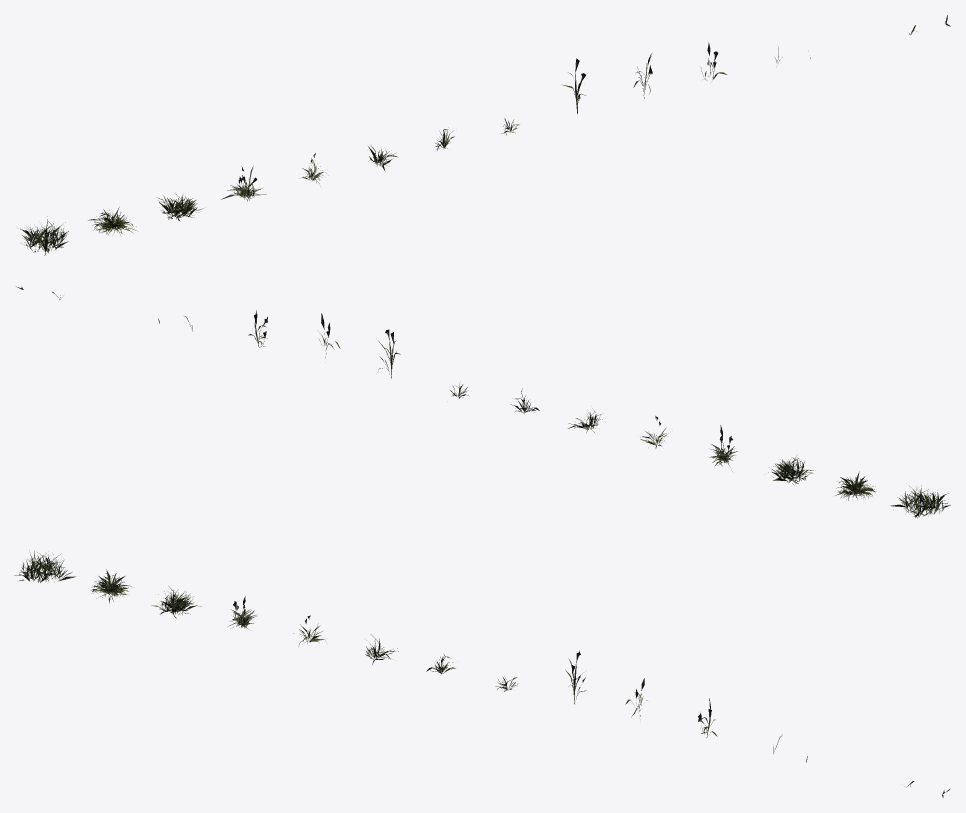
The model's file is grass_medium_01.glb.
The picture shows the model from 3 angles, top to bottom: view 1: azimuth 30°, elevation 25°; view 2: azimuth 150°, elevation 25°; view 3: azimuth 330°, elevation 25°; orthographic projection.
Parts seen in each view (by area): view 1: grass_medium_01_small_a_LOD0; view 2: grass_medium_01_small_a_LOD0; view 3: grass_medium_01_small_a_LOD0.
Boxes of the visible parts, box(x1,y1,x2,y2) form: grass_medium_01_small_a_LOD0: box(20, 15, 950, 255); grass_medium_01_small_a_LOD0: box(16, 286, 950, 518); grass_medium_01_small_a_LOD0: box(14, 550, 950, 797).
Bounding box in the file's own units: 5.6 × 0.3389 × 0.3266.
1 material, 1 textured.
